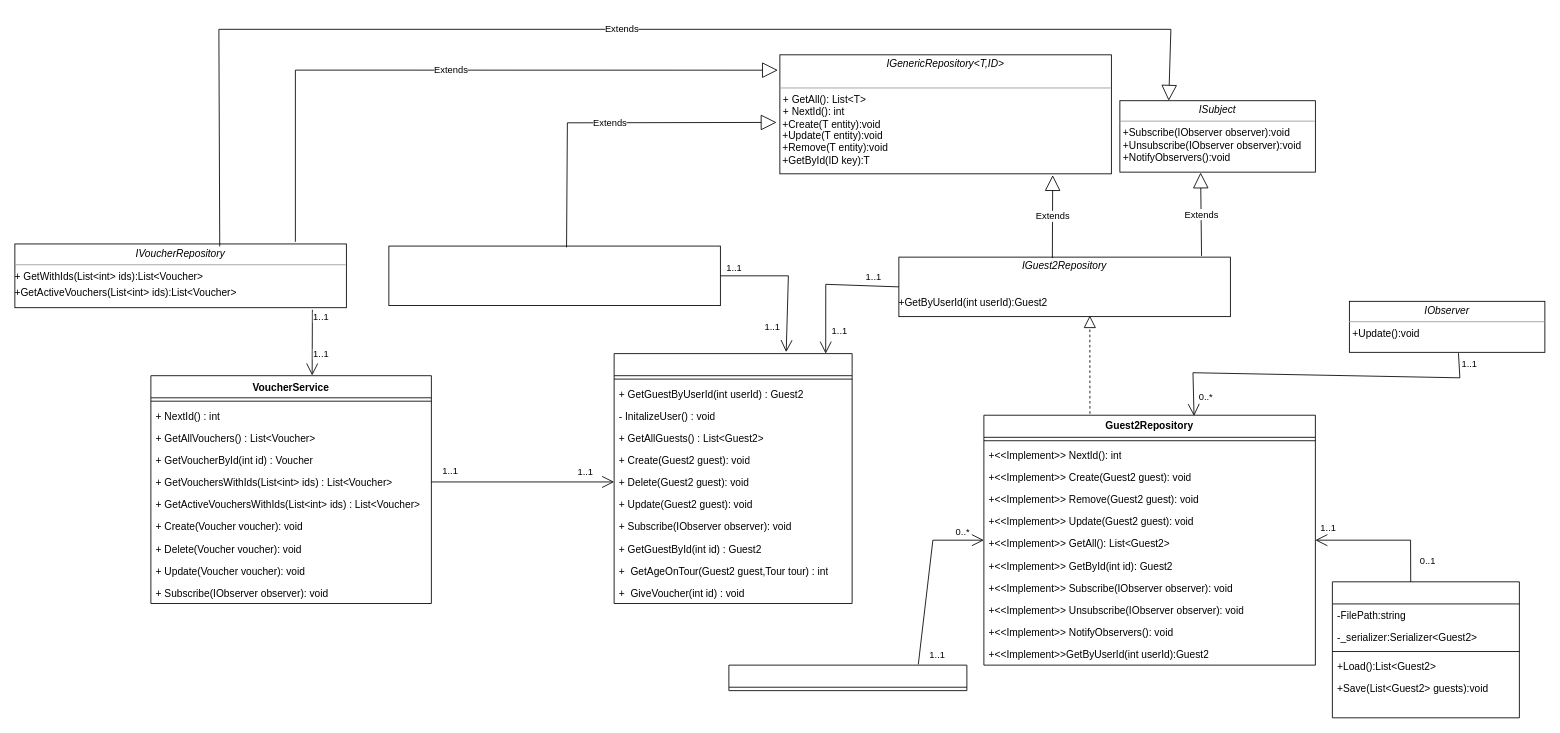
Image size: 1560x733. Some labels were removed from this diagram. The shapes that lost their labels are listed below. From the top down, each one's box as (x1, y1, x2, y2) in pixels, then its label:
(388, 245, 720, 306): IUserRepository + GetByUsername(string username) : User
(613, 353, 852, 604): Guest2Service
(1332, 581, 1519, 718): Guest2FileHandler
(728, 664, 967, 691): Guest2
